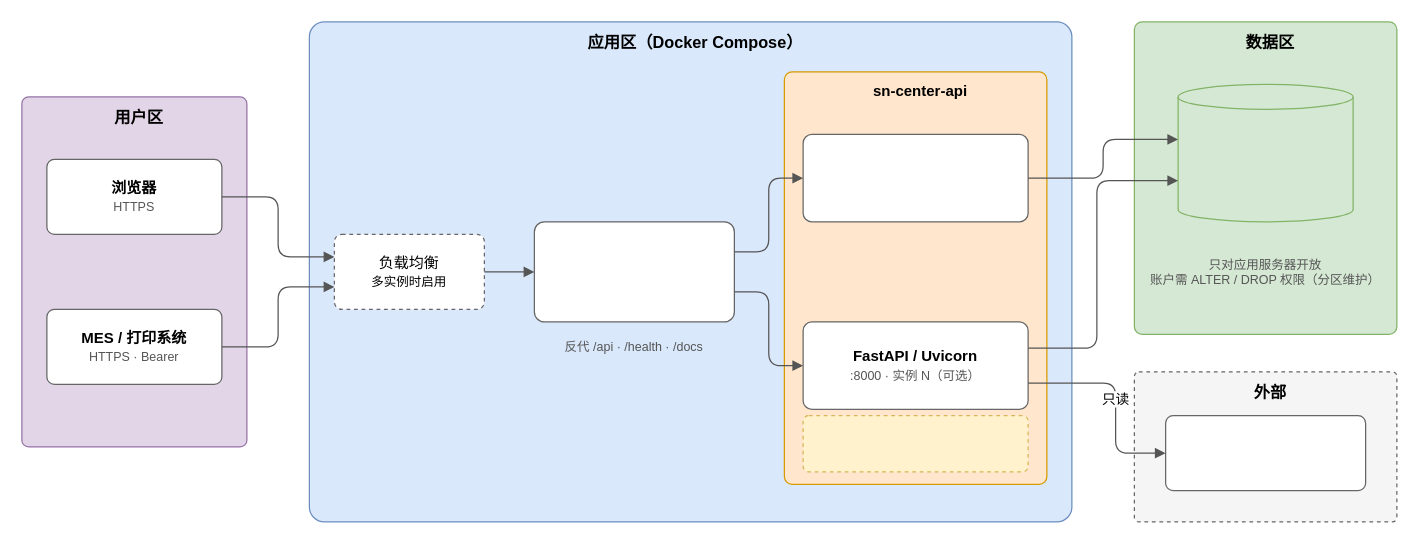
Image size: 1419x544. Some labels were removed from this diagram. The centre of each missing label's shape, as x and y in pixels:
"FastAPI / Uvicorn :8000 · 实例 1" belongs at [915,177].
"MySQL 8 :3306 建议主从" belongs at [1265,152].
"sn-center-web nginx :80 唯一对外端口" belongs at [633,271].
"端口不映射到宿主机 无会话状态，可水平扩容" belongs at [915,443].
"金蝶 K3 Cloud HTTPS WebAPI" belongs at [1265,452].
